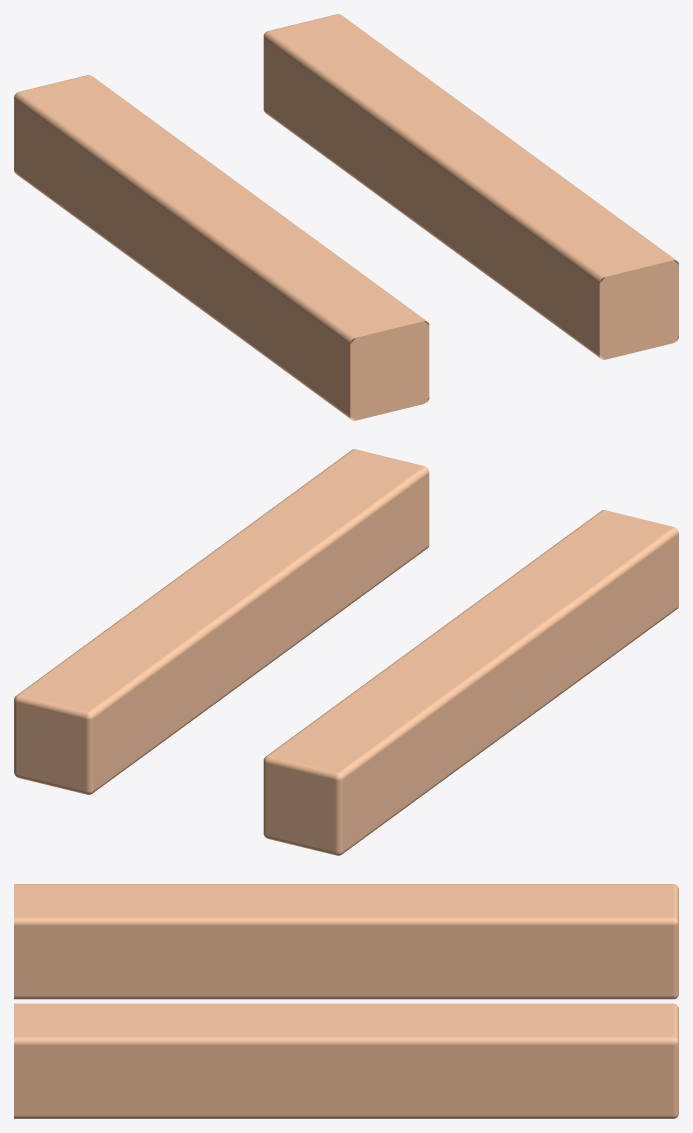
The model's file is Template - Copy.fbx.
The picture shows the model from 3 angles, top to bottom: view 1: azimuth 30°, elevation 25°; view 2: azimuth 150°, elevation 25°; view 3: azimuth 270°, elevation 25°; orthographic projection.
Visible parts, largest first — view 1: Right Arm, Left Arm; view 2: Left Arm, Right Arm; view 3: Right Arm, Left Arm.
Boxes of the visible parts, left/top/right/bottom form: Right Arm: left=263, top=14, right=678, bottom=359; Left Arm: left=14, top=75, right=429, bottom=420; Left Arm: left=263, top=510, right=678, bottom=855; Right Arm: left=14, top=449, right=429, bottom=794; Right Arm: left=14, top=1003, right=678, bottom=1118; Left Arm: left=14, top=884, right=678, bottom=999.
Bounding box in the file's own units: 87.78 × 21.15 × 157.
